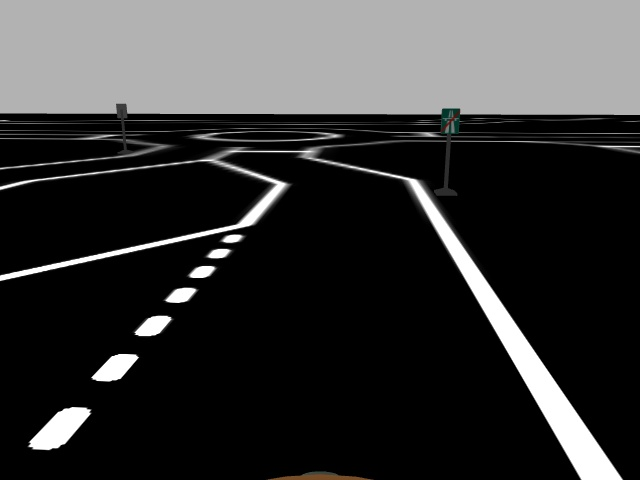leave_highway: (438, 107, 462, 135)
